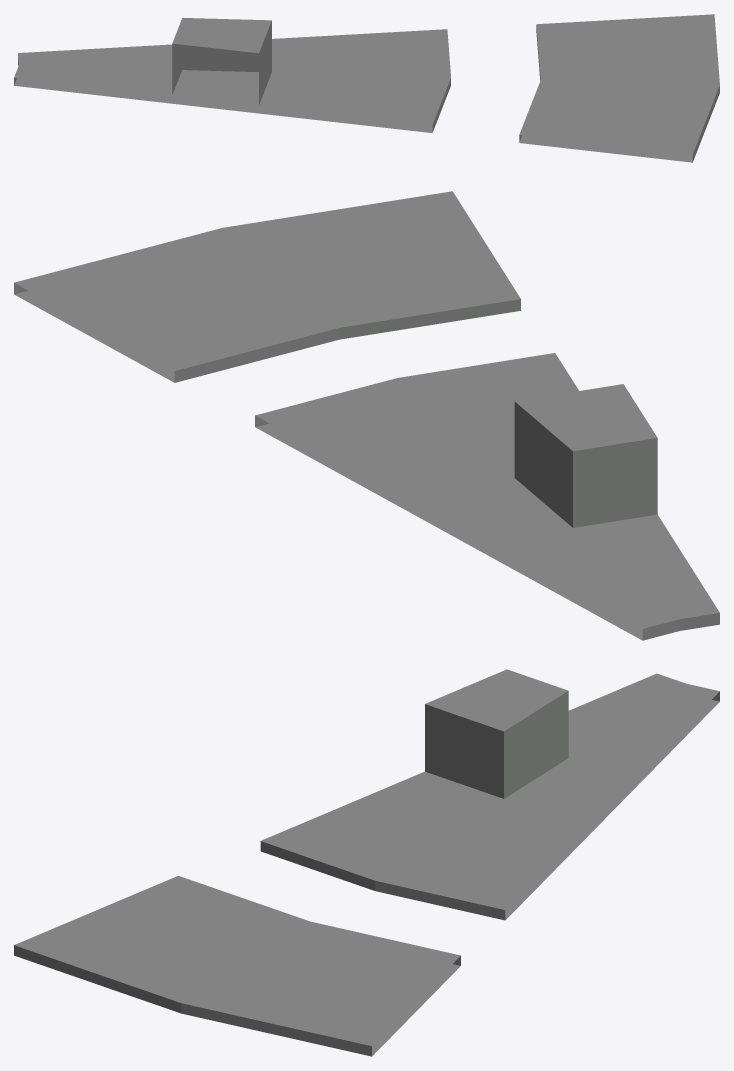
The model's file is middle_06.obj.
The picture shows the model from 3 angles, top to bottom: view 1: azimuth 30°, elevation 25°; view 2: azimuth 150°, elevation 25°; view 3: azimuth 270°, elevation 25°; orthographic projection. The views are drawn at different scales.
Parts seen in each view (by area): view 1: Cylinder.022; view 2: Cylinder.022; view 3: Cylinder.022.
Part boxes in pixels (left/top/right/bottom): Cylinder.022: left=14, top=14, right=719, bottom=162; Cylinder.022: left=14, top=191, right=719, bottom=640; Cylinder.022: left=14, top=669, right=719, bottom=1056.
Bounding box in the file's own units: 30.8 × 3 × 24.65.
